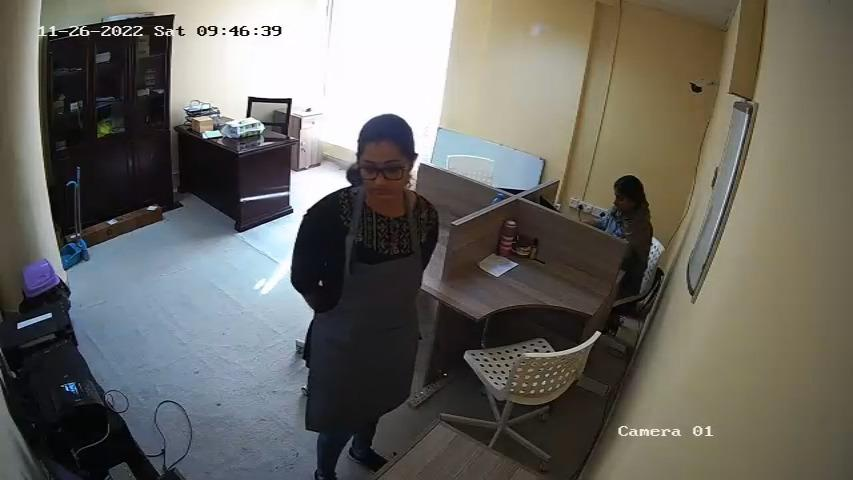apron: (328, 202, 423, 397)
